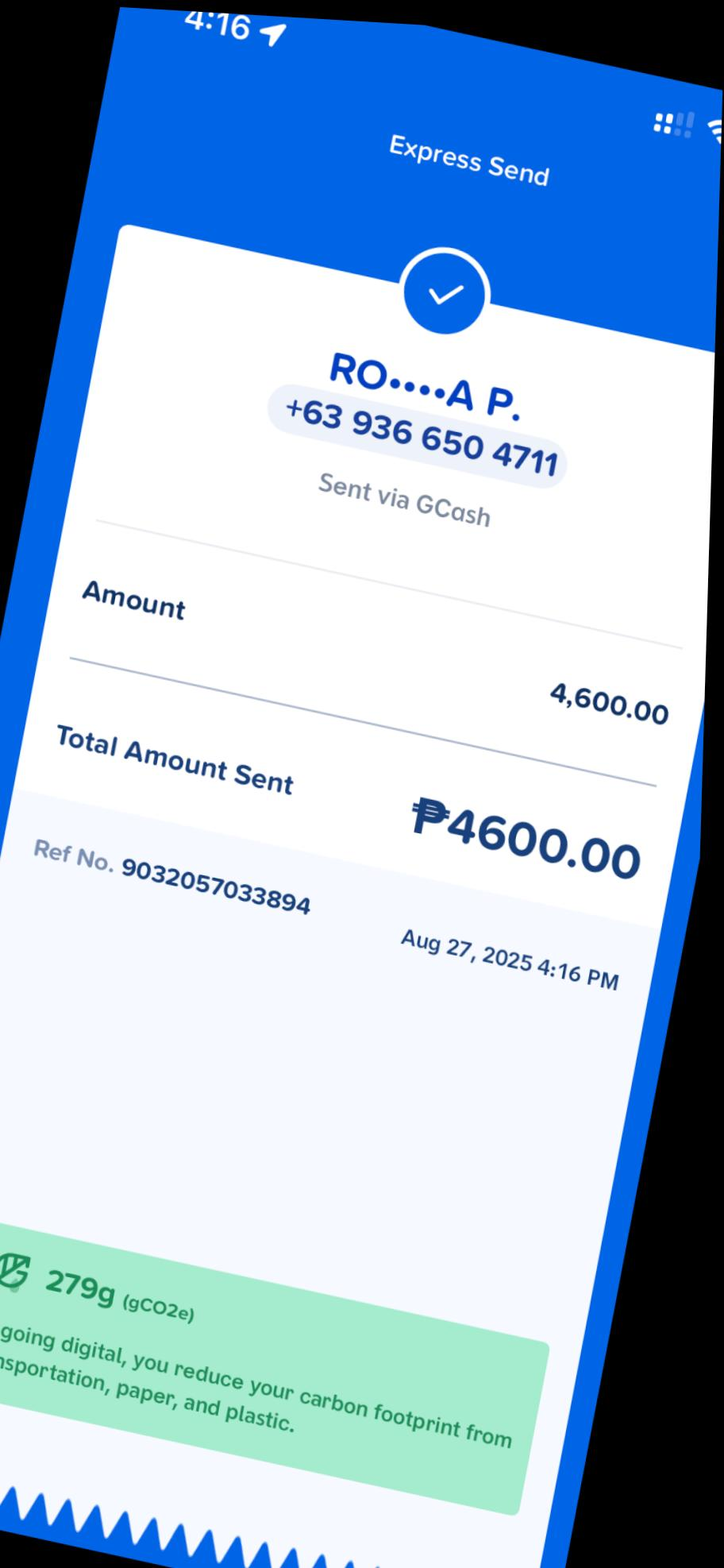Receipt: (0, 34, 721, 1568)
